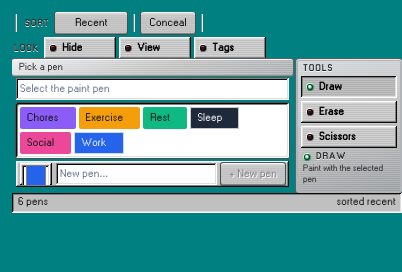
PenPalette new pen › keeps + New pen at the bottom while the well is expanded
This screenshot has width=402, height=272.
Check: the element with class "trk-pen-well" is shown, box [16,103,289,158]
Type "Sketching" into the field named "New pen name" at (137, 174), box [56,163,217,185]
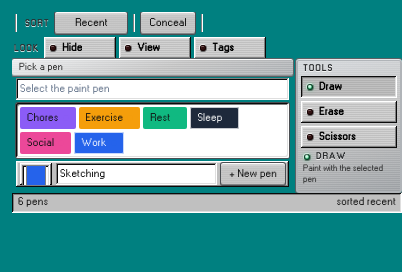
Click the button "+ New pen" at (253, 174), box [221,163,285,185]
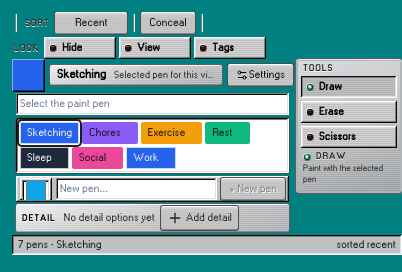
Check: the button "+ New pen" is shown, box [221,178,285,200]
Check: the button "Sketching" is shown, box [20,122,79,144]
